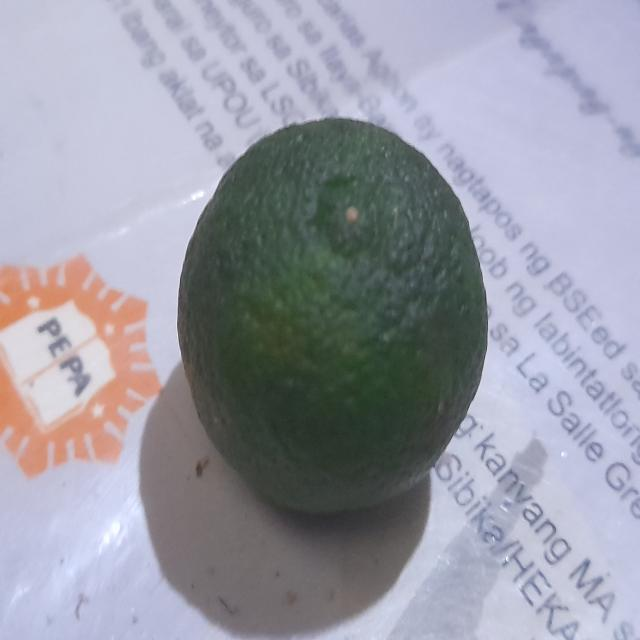heathy: (176, 109, 490, 522)
